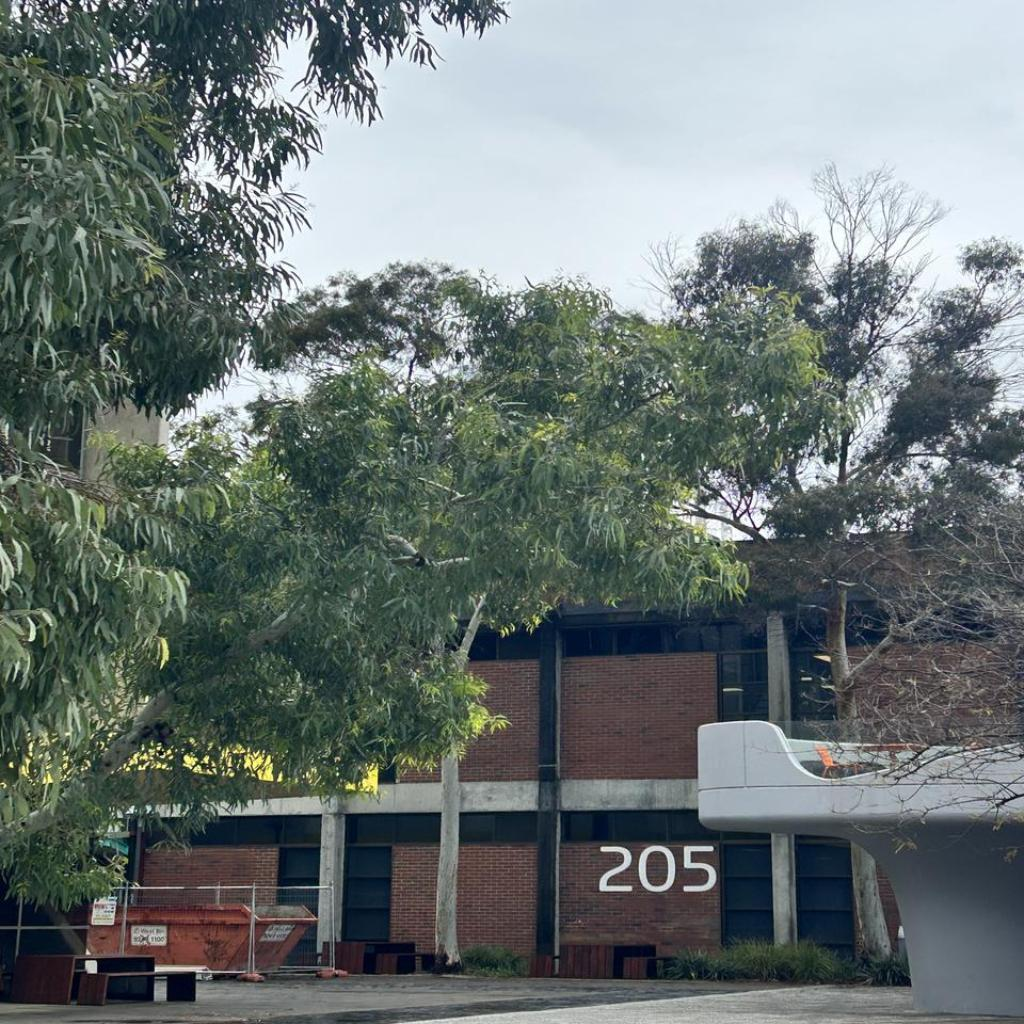BuildingCodes: (596, 842, 718, 894)
